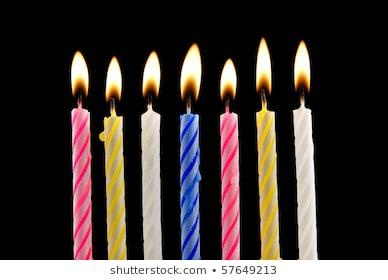fire: (177, 41, 200, 111), (292, 37, 311, 107), (254, 35, 272, 103), (69, 47, 90, 104), (140, 49, 160, 105), (218, 56, 238, 106), (105, 54, 122, 108)
